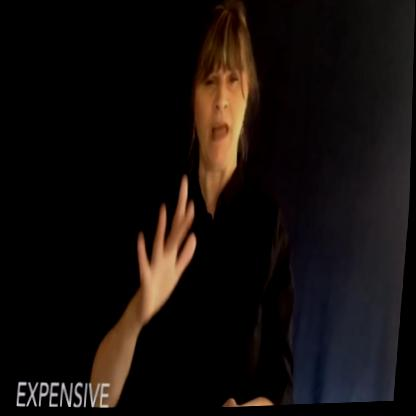Expensive: (117, 152, 256, 412)
